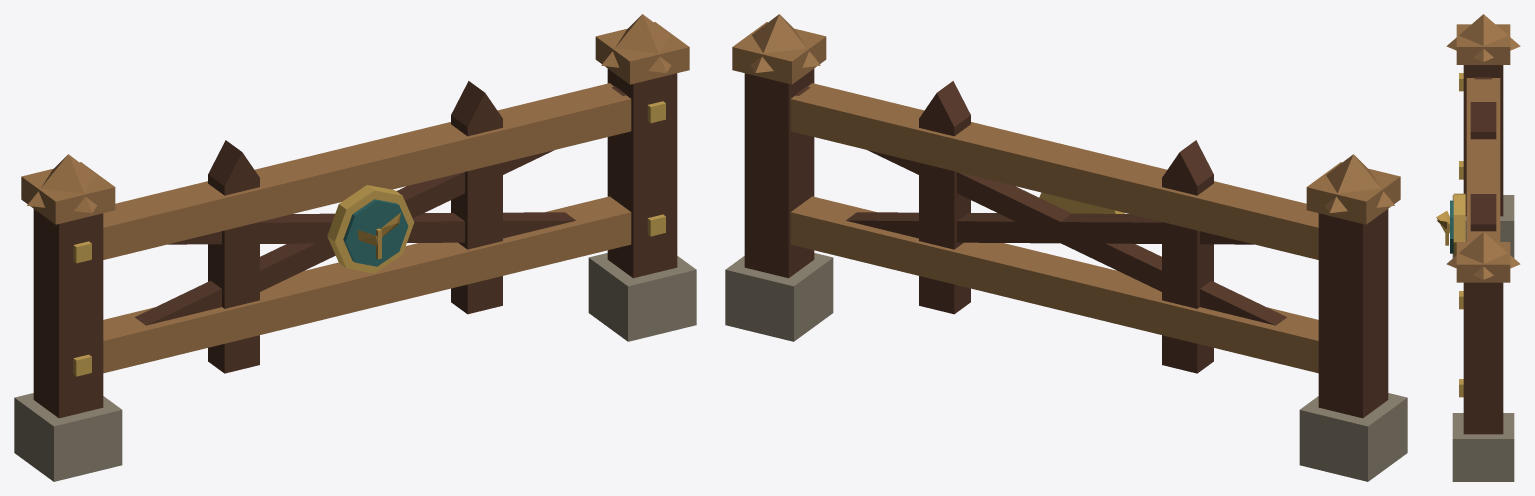
The model's file is fence-straight.glb.
The picture shows the model from 3 angles, left to right: view 1: azimuth 30°, elevation 25°; view 2: azimuth 150°, elevation 25°; view 3: azimuth 270°, elevation 25°; orthographic projection. The views are drawn at different scales.
Parts seen in each view (by area): view 1: fence-straight; view 2: fence-straight; view 3: fence-straight.
Boxes of the visible parts, left/top/right/bottom form: fence-straight: left=14, top=14, right=696, bottom=481; fence-straight: left=725, top=14, right=1407, bottom=481; fence-straight: left=1436, top=14, right=1520, bottom=481.
Bounding box in the file's own units: 2.98 × 1.32 × 0.427.
